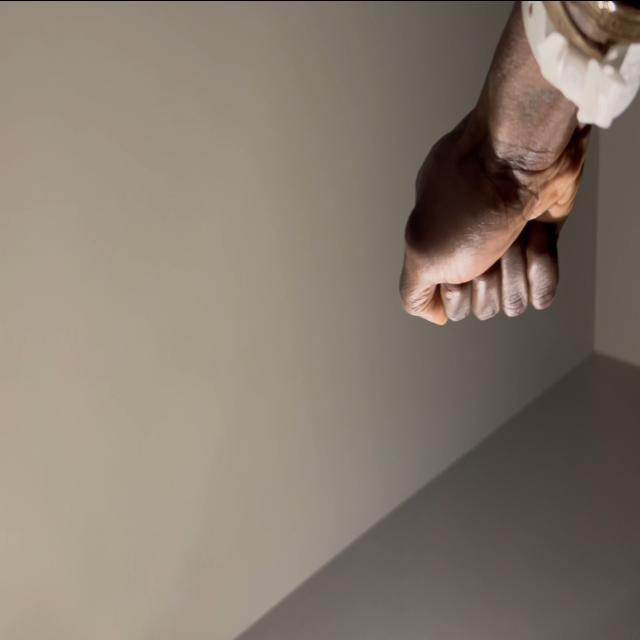Rock: (398, 100, 582, 332)
